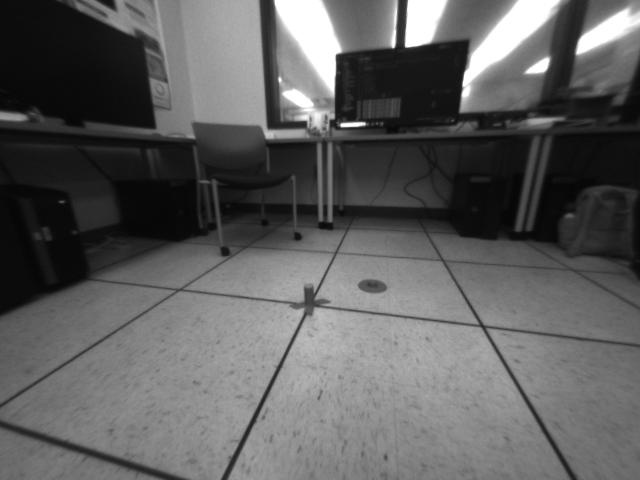X: (288, 283, 332, 317)
